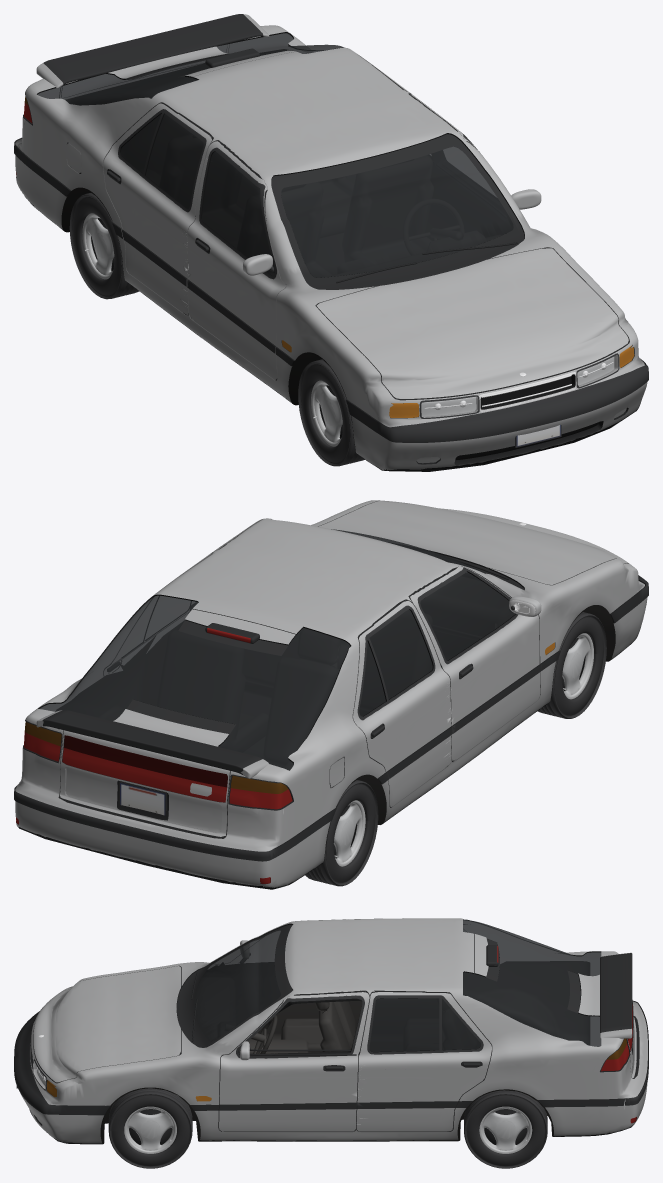
File: car_hero.glb
The picture shows the model from 3 angles, top to bottom: view 1: azimuth 30°, elevation 25°; view 2: azimuth 150°, elevation 25°; view 3: azimuth 270°, elevation 25°; orthographic projection. The views are drawn at different scales.
Visible parts, largest first — view 1: body, wheel_FR, wheel_RR; view 2: body, wheel_FR, wheel_RR; view 3: body, wheel_FL, wheel_RL.
Boxes of the visible parts, <box> form: body: <box>14,14,648,471</box>; wheel_FR: <box>298,359,364,466</box>; wheel_RR: <box>69,193,139,299</box>; body: <box>14,500,648,889</box>; wheel_FR: <box>537,612,606,718</box>; wheel_RR: <box>305,780,378,886</box>; body: <box>14,918,648,1144</box>; wheel_FL: <box>108,1088,192,1168</box>; wheel_RL: <box>464,1090,547,1168</box>.
Size of the model in its own units: 1.99 by 1.42 by 4.78.
12 materials, 1 textured.
